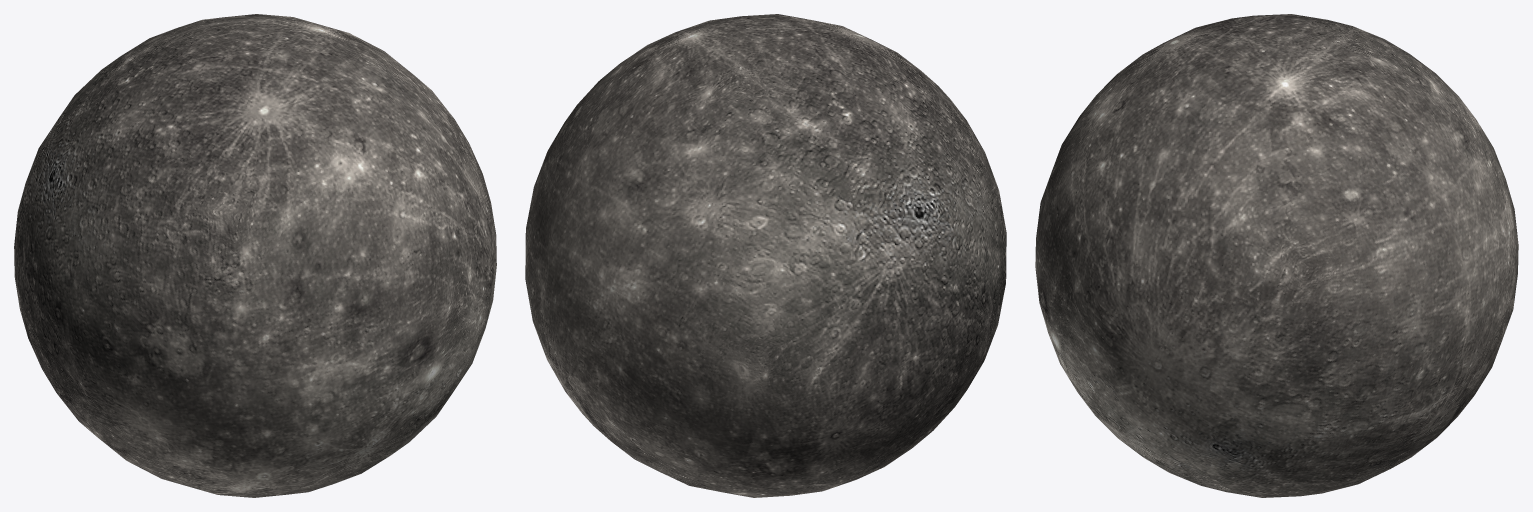
Rendered from mercury.obj.
3 renders of one model, left to right at view 1: azimuth 30°, elevation 25°; view 2: azimuth 150°, elevation 25°; view 3: azimuth 270°, elevation 25°, orthographic.
Visible parts, largest first — view 1: Mercury; view 2: Mercury; view 3: Mercury.
Part boxes in pixels (left/top/right/bottom): Mercury: left=14, top=14, right=496, bottom=497; Mercury: left=525, top=14, right=1006, bottom=497; Mercury: left=1035, top=14, right=1518, bottom=497.
Size of the model in its own units: 0.4811 by 0.4801 by 0.4795.
